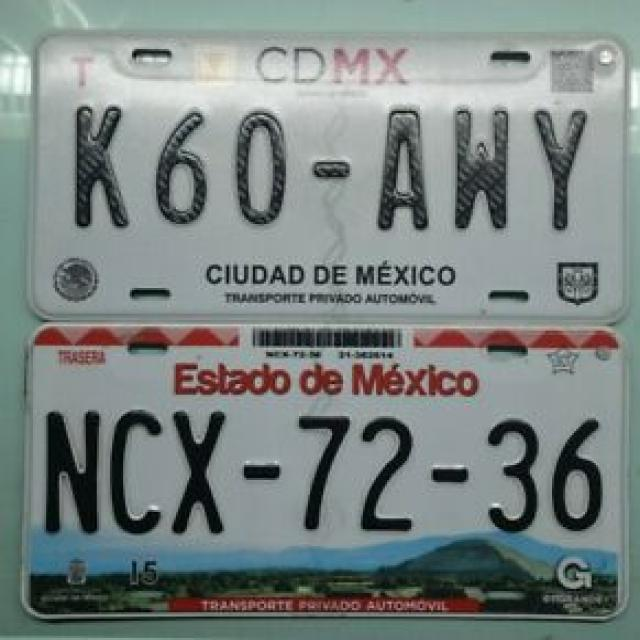placa: (38, 85, 626, 252), (26, 390, 622, 540)
